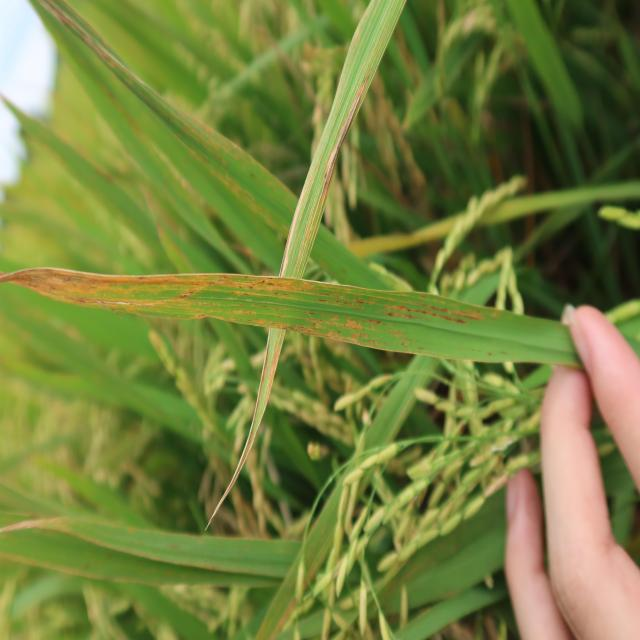Dom soc vi khuan: (0, 269, 512, 364)
